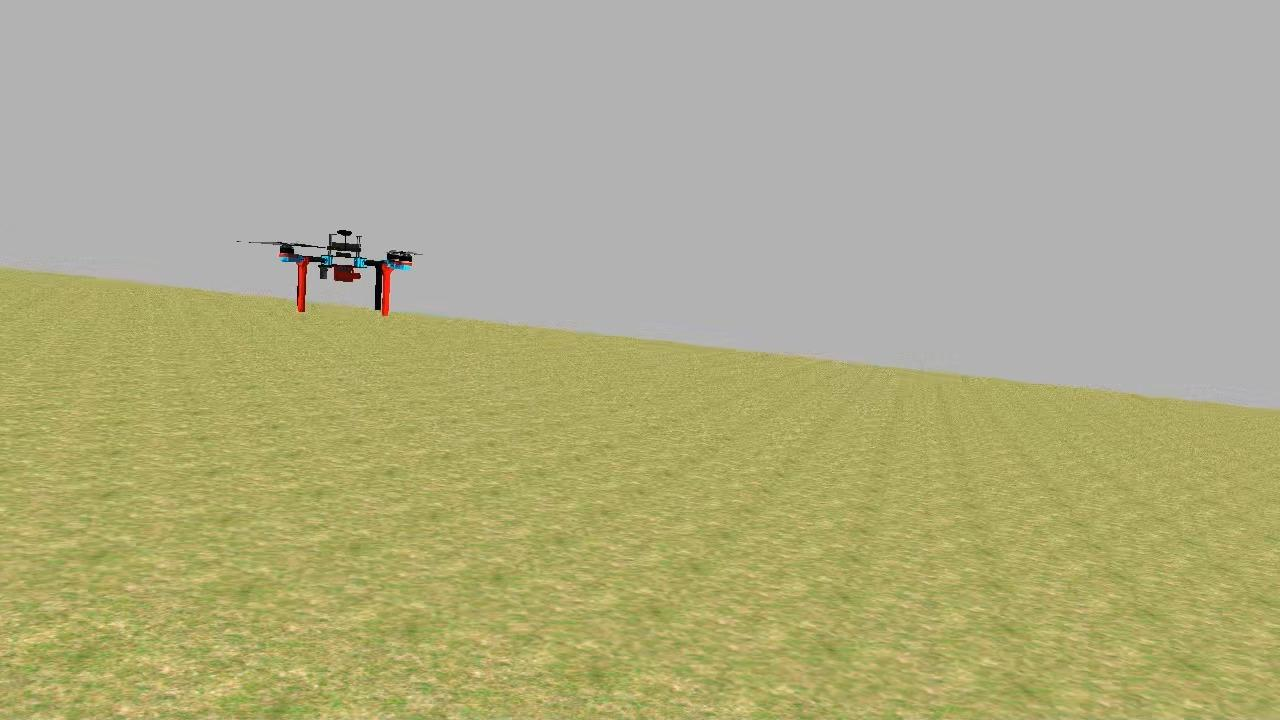UAV: (270, 224, 422, 324)
